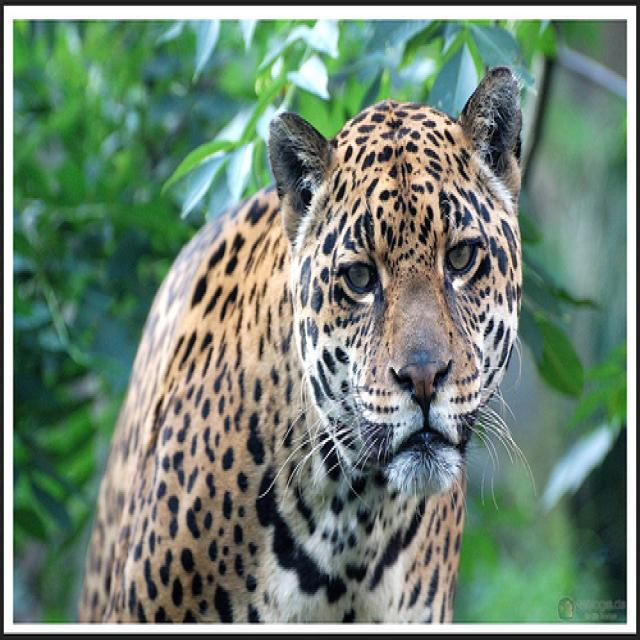Leopard: (79, 63, 521, 621)
